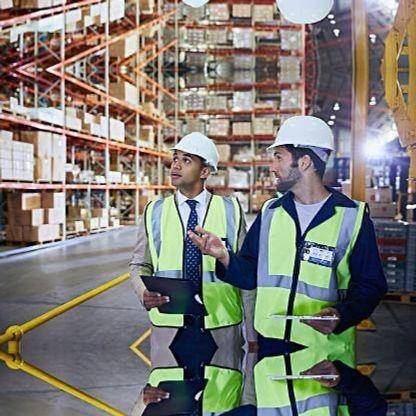helmet: (269, 119, 332, 150), (170, 131, 221, 169)
vest: (252, 195, 362, 336), (146, 193, 239, 324)
